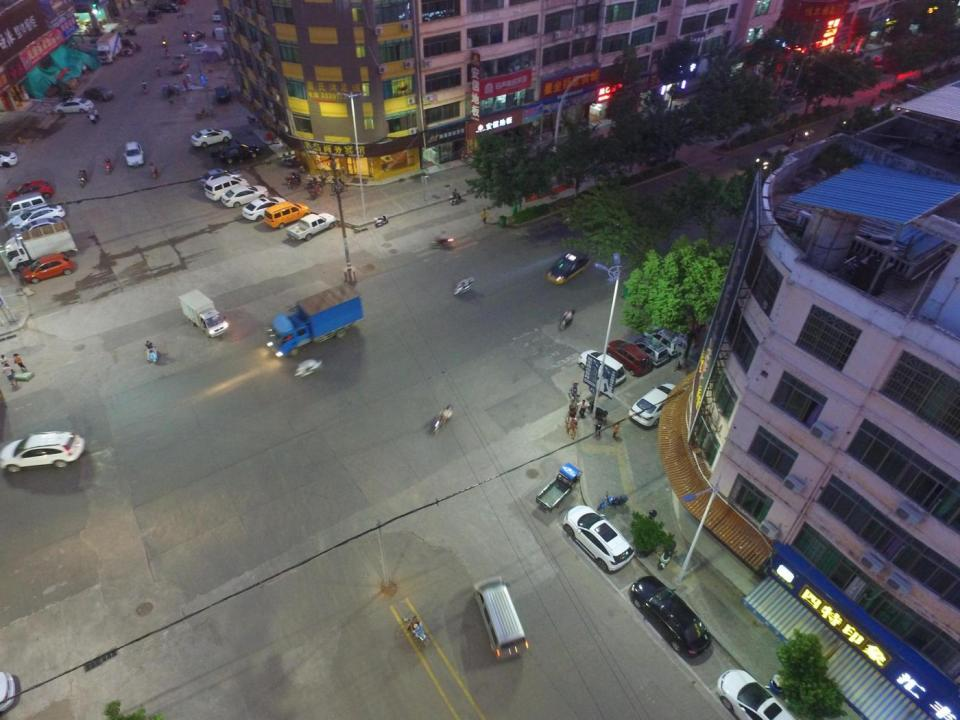car: (629, 576, 712, 658), (562, 506, 635, 572), (715, 668, 797, 720), (0, 431, 86, 473), (628, 384, 682, 426), (577, 349, 627, 385), (605, 340, 653, 377), (546, 249, 591, 286), (8, 216, 69, 243), (22, 253, 75, 284), (11, 203, 66, 230), (641, 324, 687, 356), (624, 334, 669, 366), (5, 180, 54, 205), (220, 184, 270, 208), (242, 196, 287, 222), (218, 141, 262, 163), (190, 127, 232, 148), (196, 168, 241, 186), (54, 98, 95, 114), (123, 141, 144, 166), (84, 85, 114, 102), (183, 28, 206, 42), (154, 1, 179, 13), (213, 85, 231, 101), (212, 7, 225, 22)
truck: (266, 282, 365, 357), (4, 221, 78, 271), (178, 289, 229, 337), (286, 212, 336, 241), (96, 31, 123, 64), (166, 53, 189, 74)
van: (473, 576, 529, 660), (2, 191, 47, 222), (263, 201, 311, 229), (754, 143, 791, 173), (204, 176, 248, 201)
